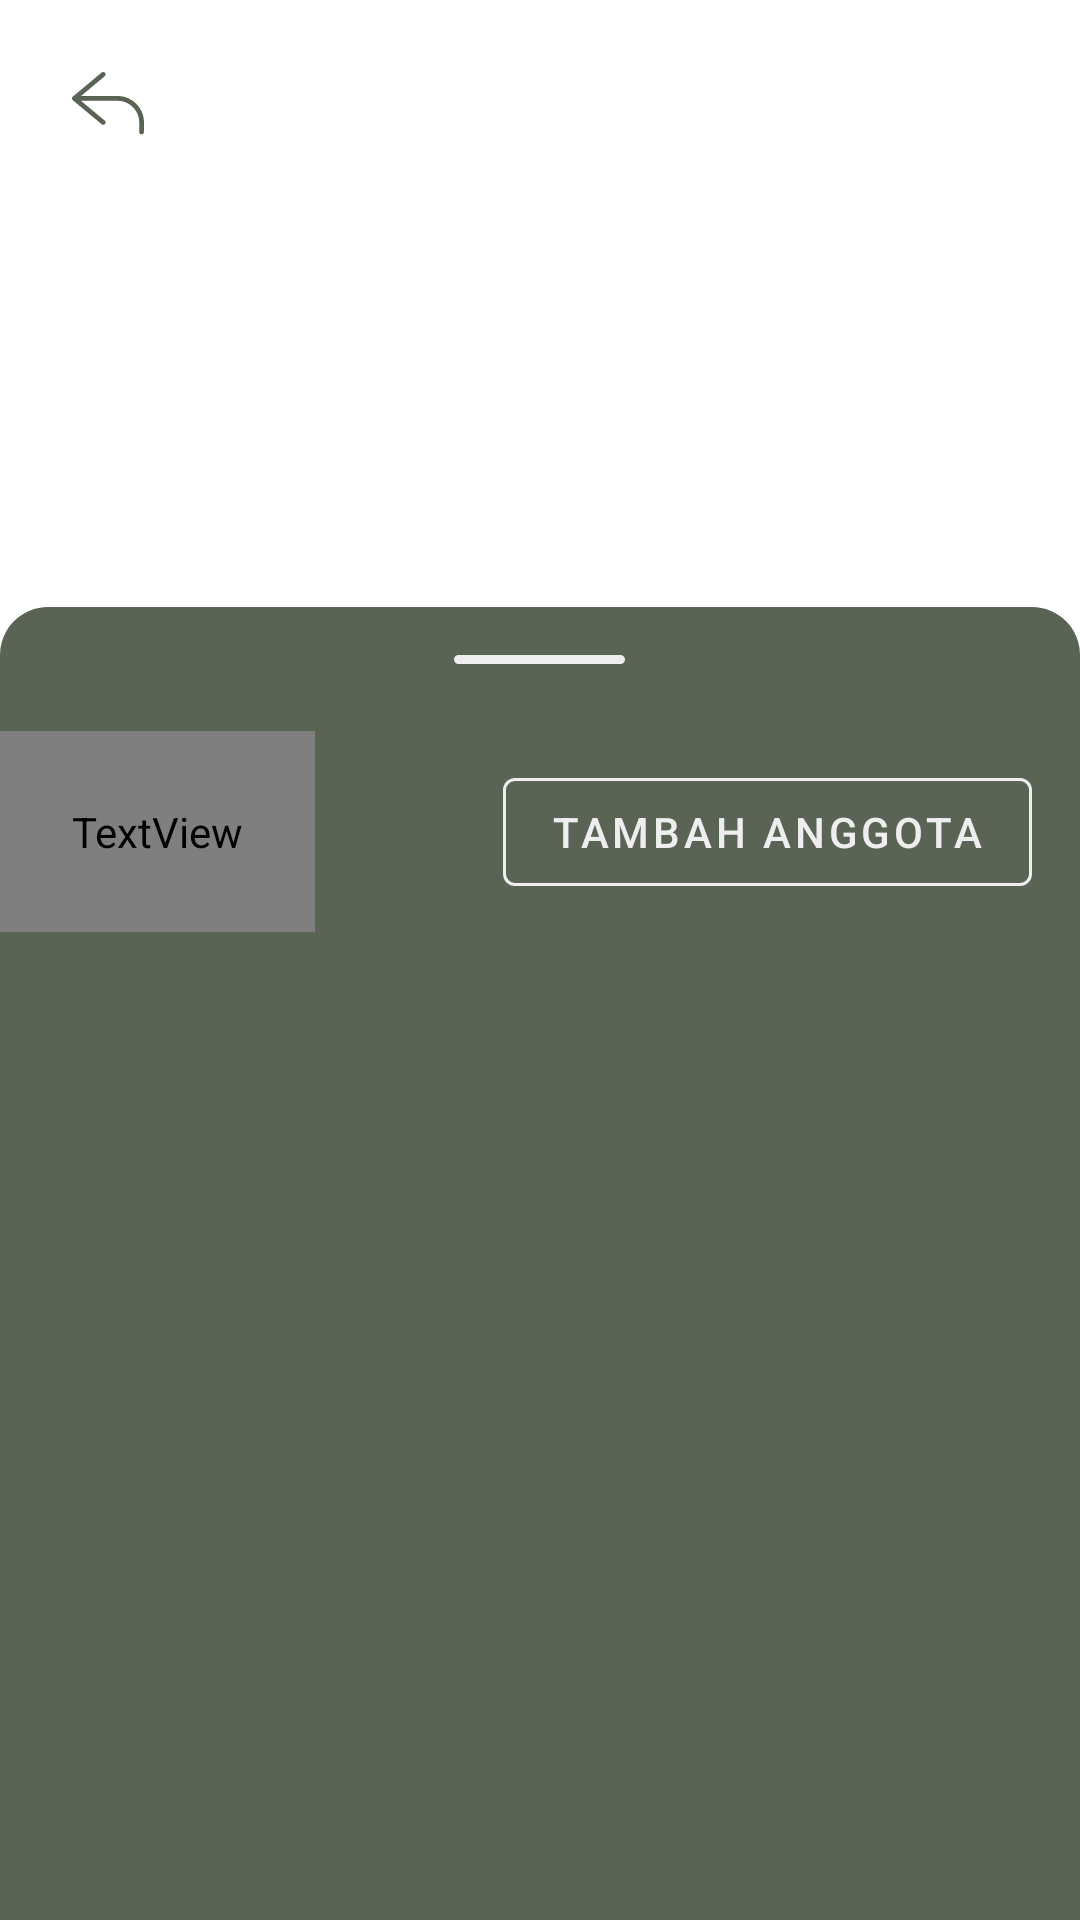

Screen size 1080w x 1920h. Icon name, then its box in pixels as (x1, y1, x2, y2):
back: (72, 72, 144, 135)
